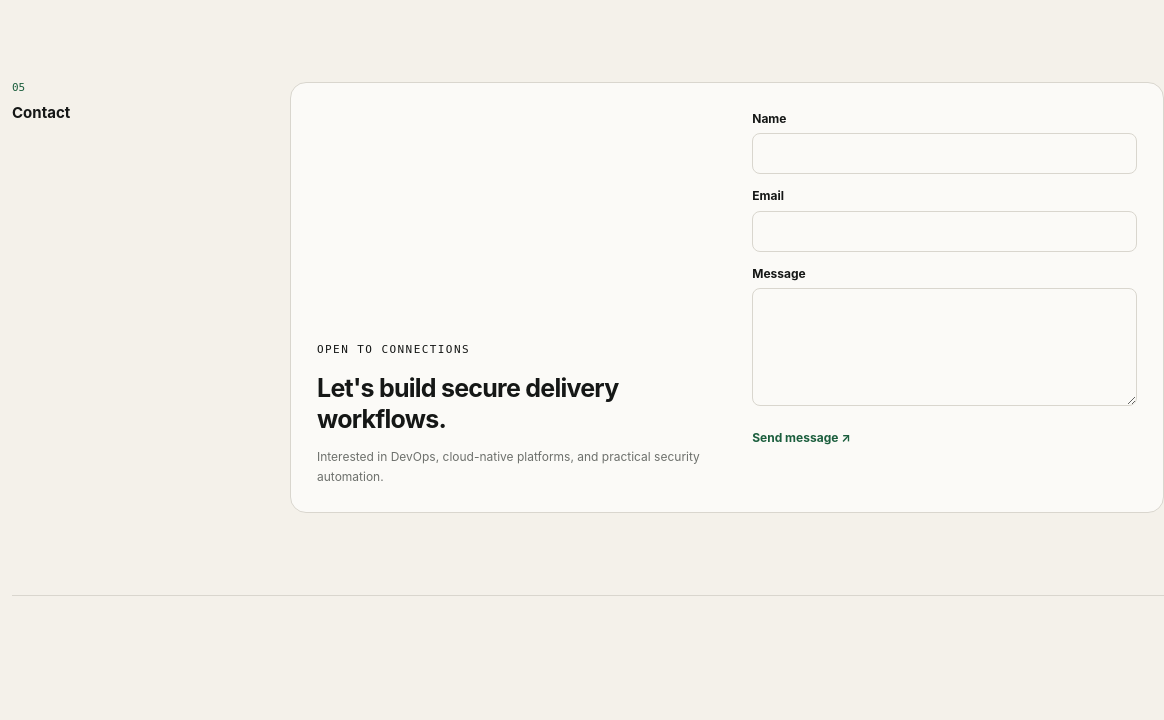
Scenario: Contact form › shows API validation errors instead of claiming success
Type "Ada Lovelace" into the field labelled "Name" at (945, 154), box [752,133,1137,174]
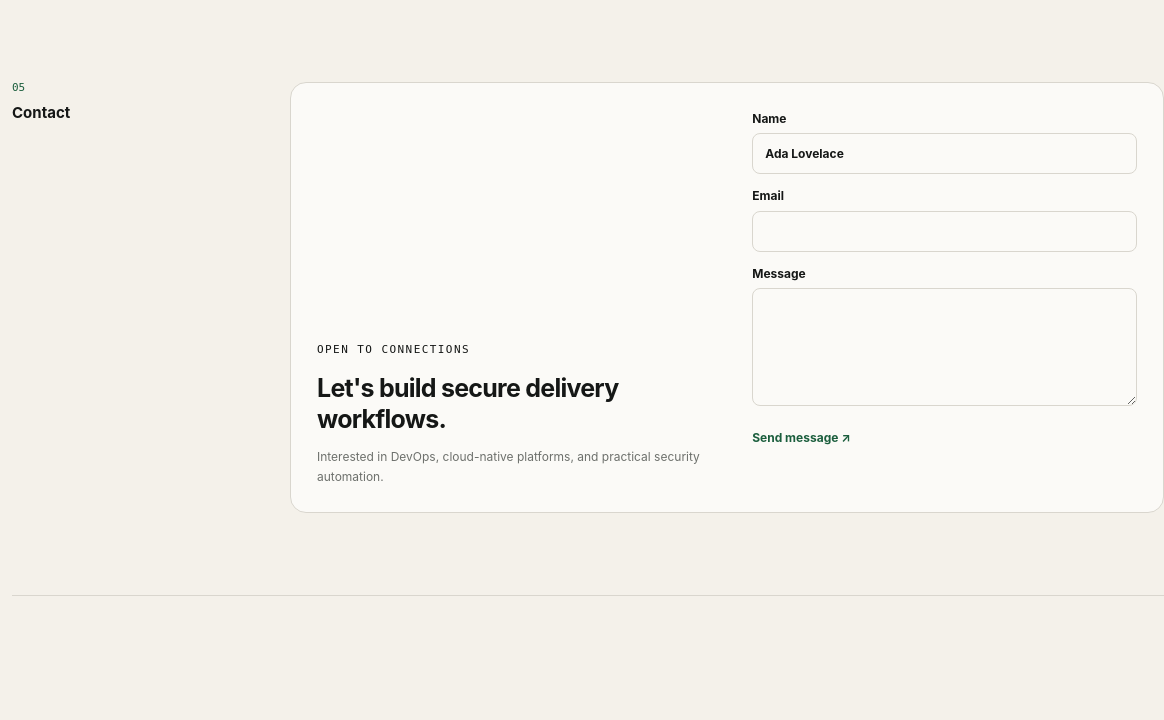
Type "ada@example.com" into the field labelled "Email" at (945, 231), box [752,211,1137,252]
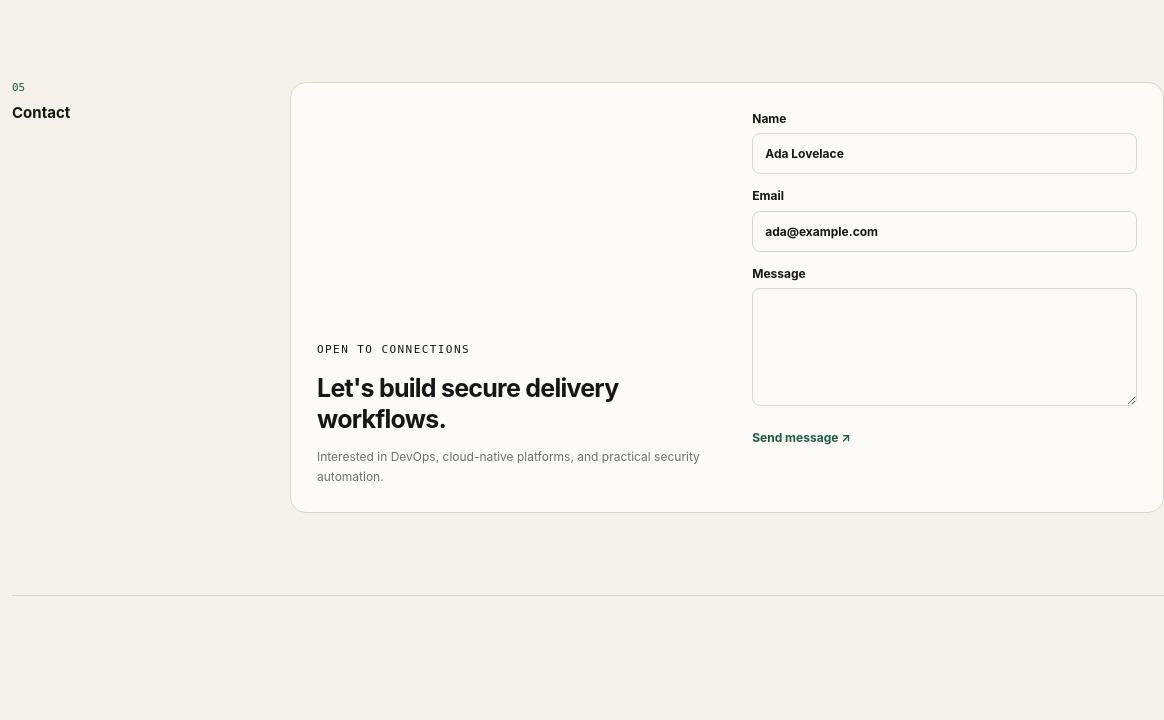
Type "Please contact me about secure delivery." into the text box labelled "Message" at (945, 347), box [752,288,1137,406]
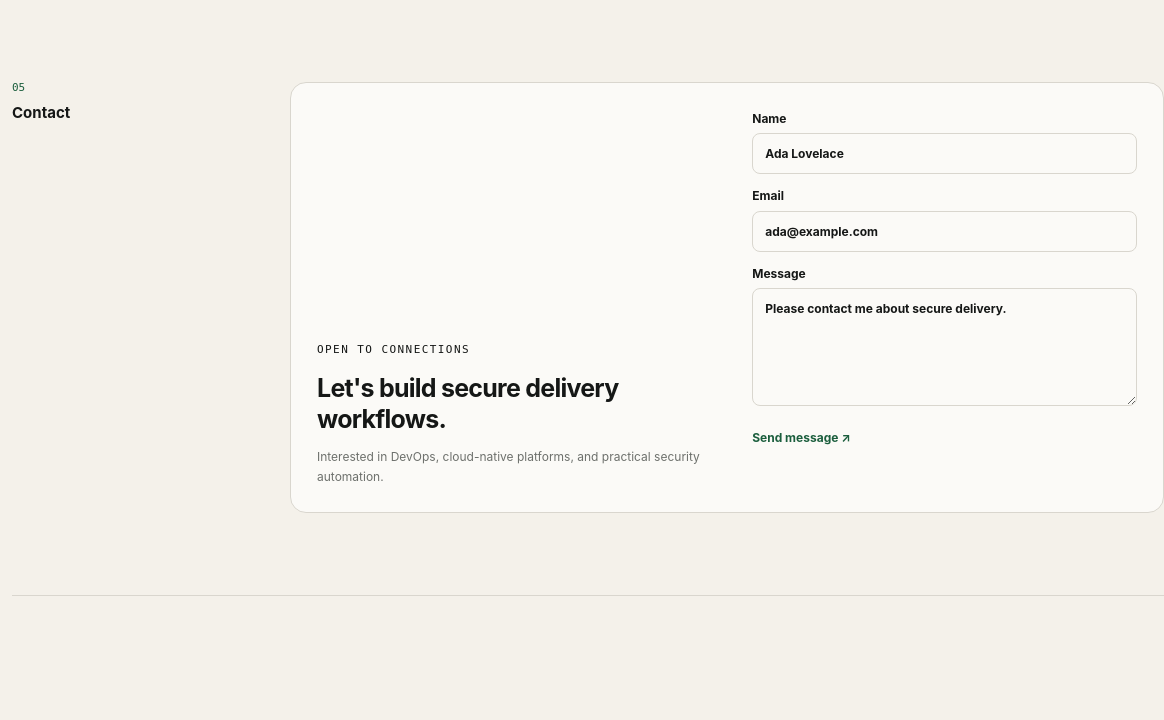
Click the button "Send message ↗" at (801, 438), box [752,418,851,457]
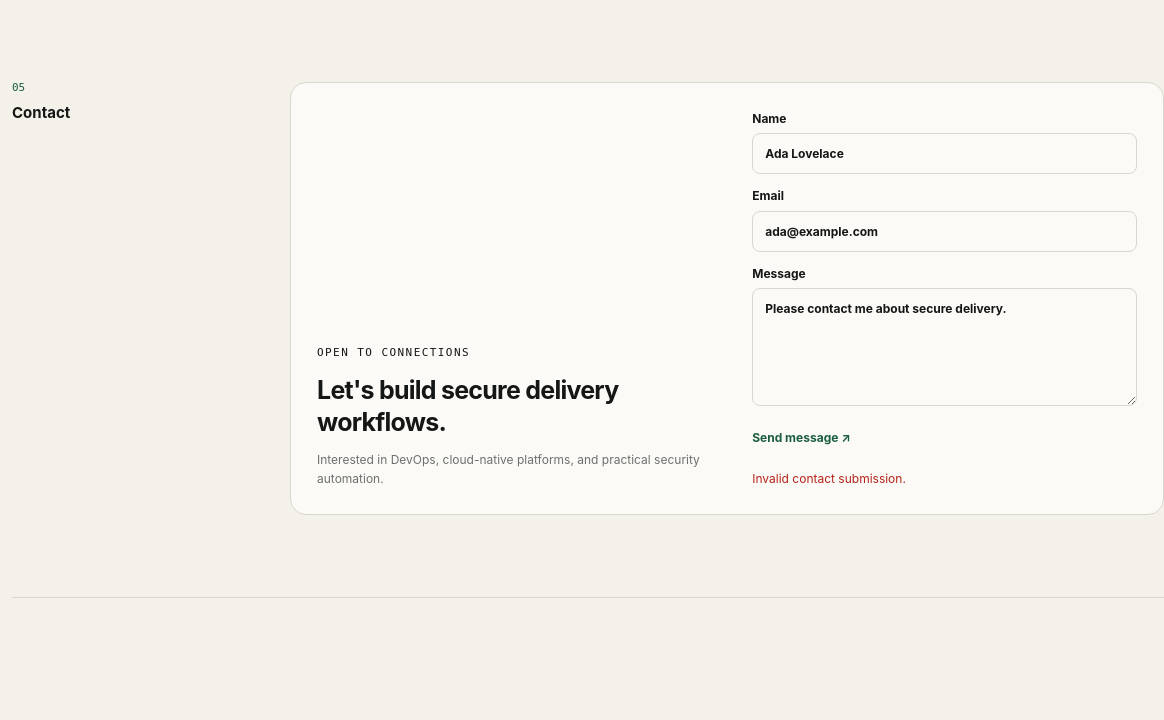
Check: the message reads "Invalid contact submission.", box [752,471,906,486]
